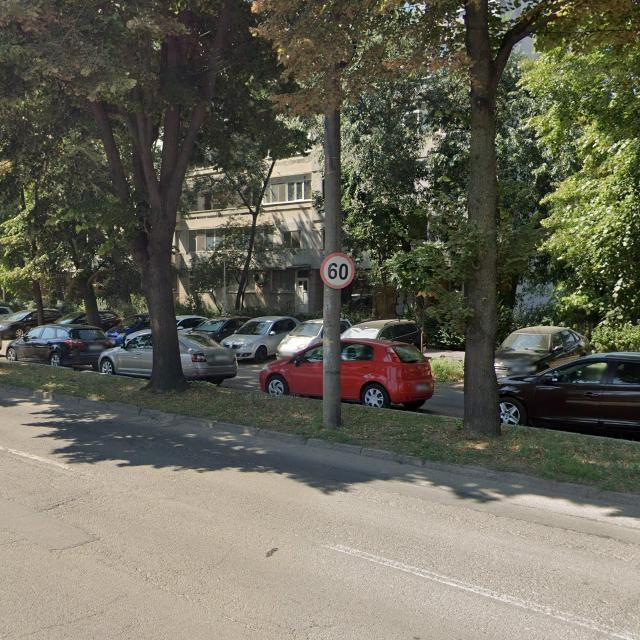forb_speed_over_60: (320, 252, 355, 289)
